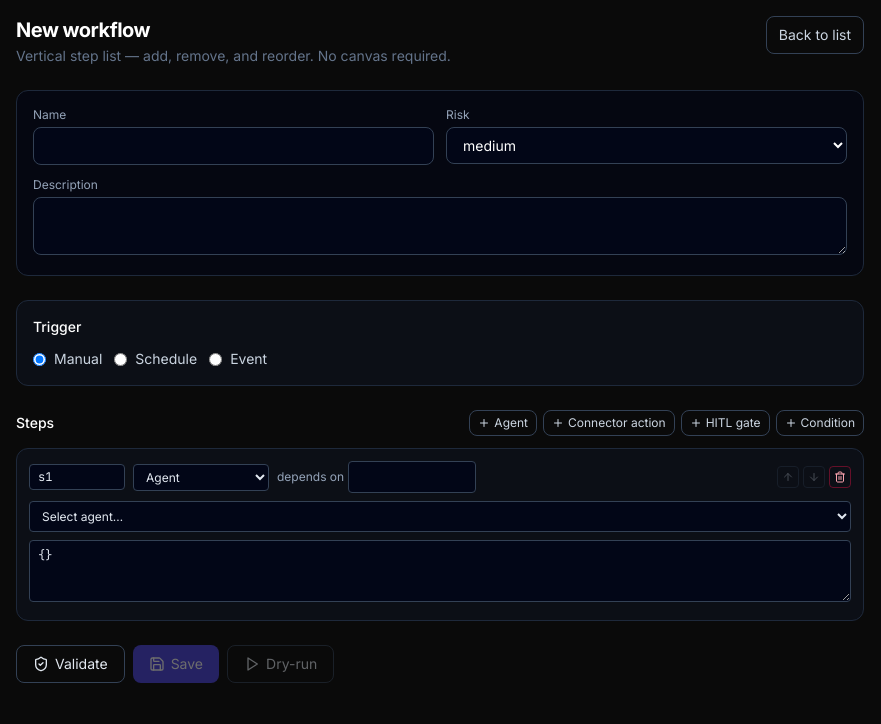
WorkflowBuilder › maps validation errors from the API back to the specific step
Expected: the heading "New workflow" is shown, [16,18,150,42]
What coordinates should you click on to do the following:
click the button "Validate"
I would click on:
 (70, 664)
Its box is [16,645,125,683].
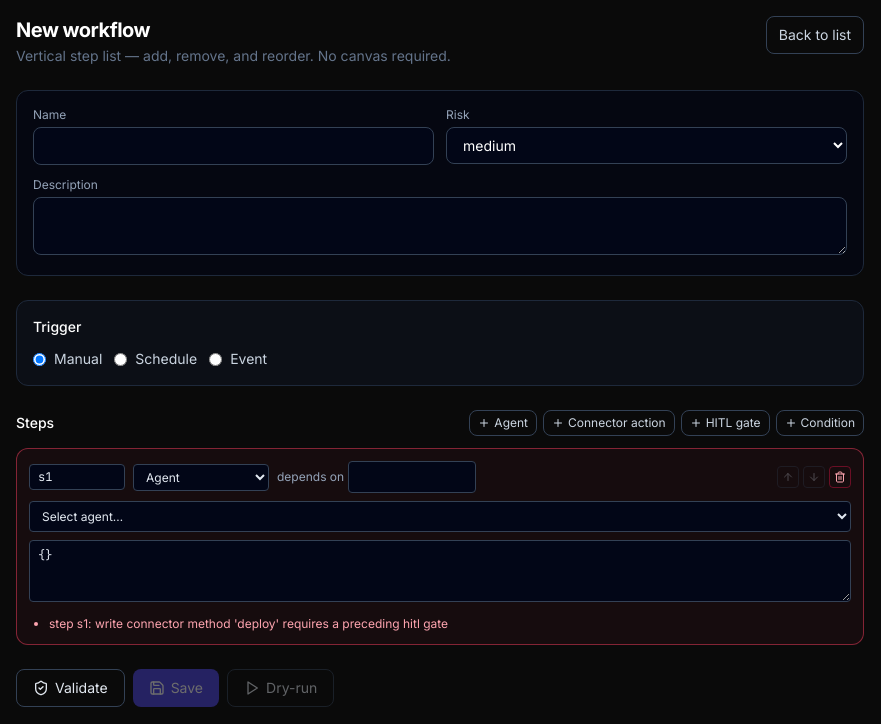
Now the number of list items "requires a preceding hitl gate" is 1, box [49,616,448,631]
